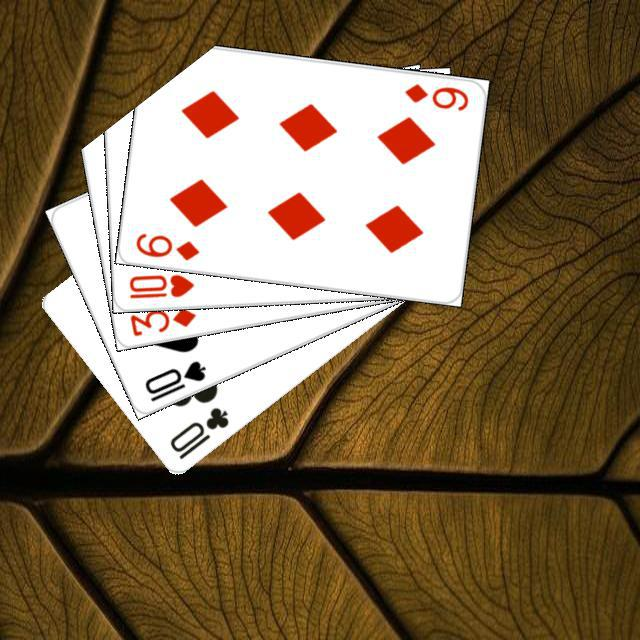10c: (164, 402, 231, 461)
10h: (124, 269, 196, 300)
10s: (139, 355, 208, 404)
3d: (125, 303, 198, 338)
6d: (130, 228, 201, 262), (400, 79, 470, 113)
